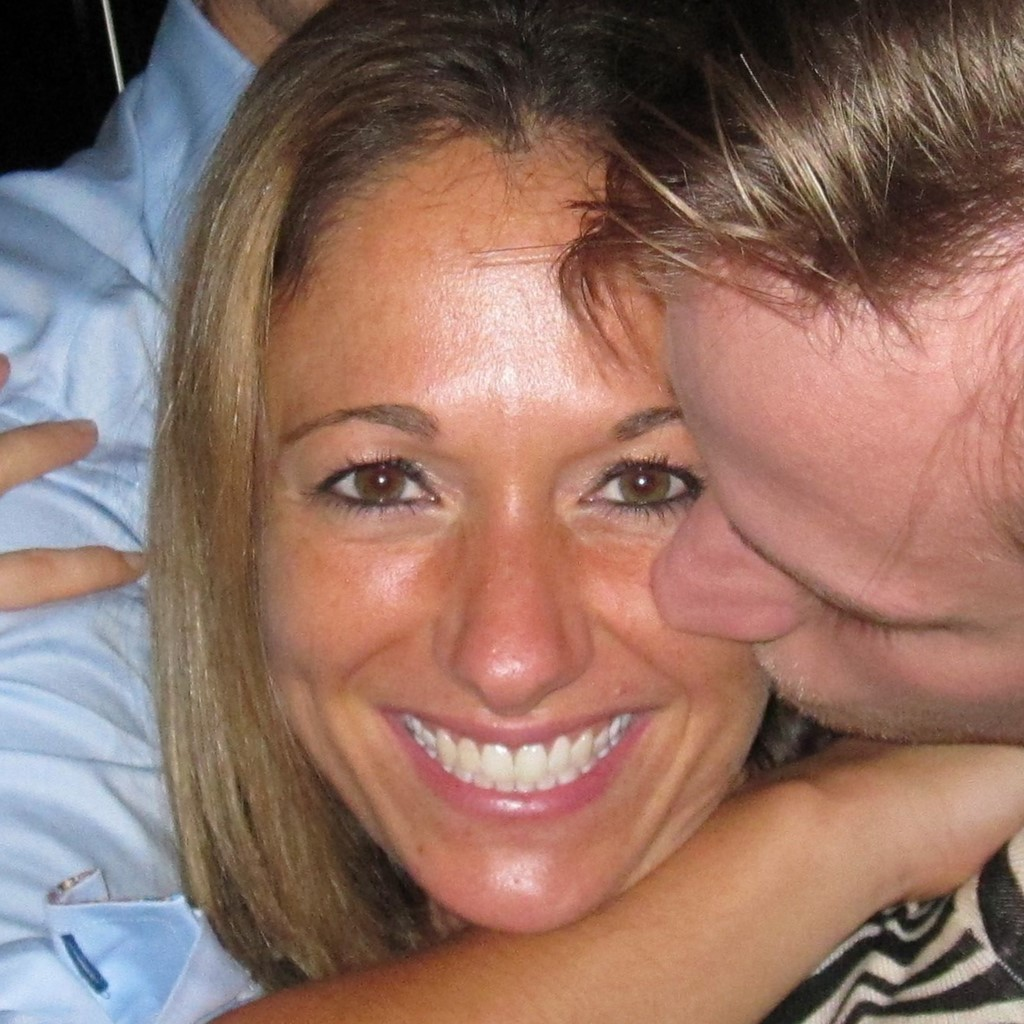sin_mascara: (237, 105, 797, 944)
